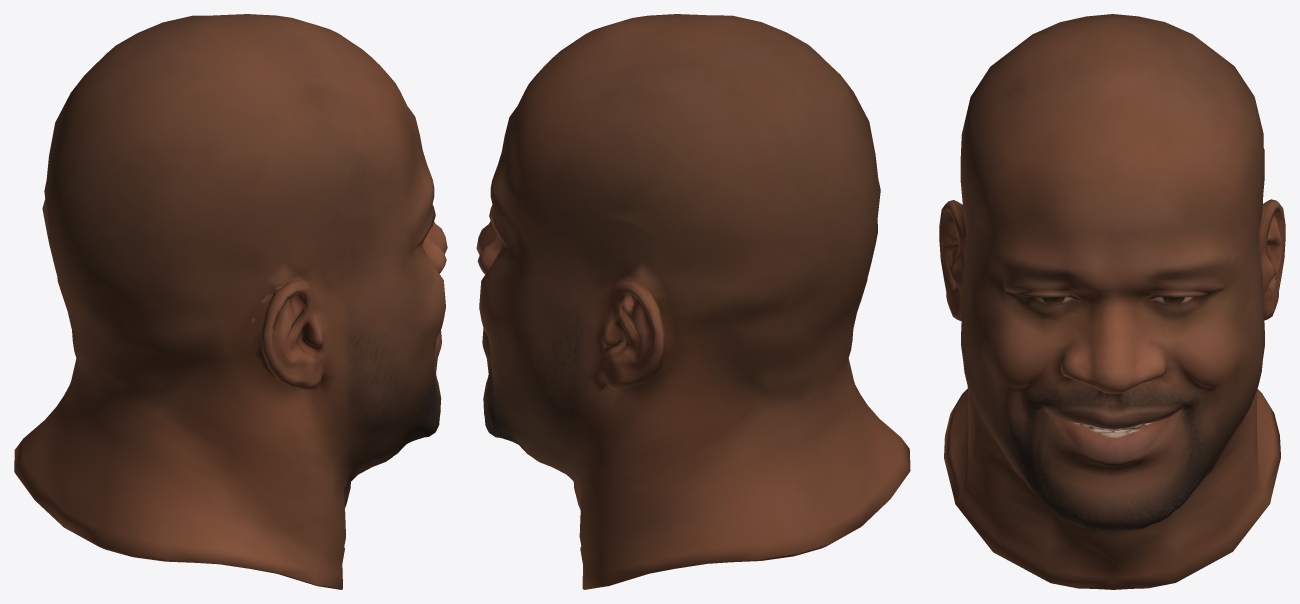
File: shaq_tripo_head.glb
The picture shows the model from 3 angles, left to right: view 1: azimuth 30°, elevation 25°; view 2: azimuth 150°, elevation 25°; view 3: azimuth 270°, elevation 25°; orthographic projection. The views are drawn at different scales.
Parts seen in each view (by area): view 1: tripo_node_257f4a93-e102-4435-bab2-5d5a455b6364; view 2: tripo_node_257f4a93-e102-4435-bab2-5d5a455b6364; view 3: tripo_node_257f4a93-e102-4435-bab2-5d5a455b6364.
Boxes of the visible parts, x1,y1,x2,y2 form: tripo_node_257f4a93-e102-4435-bab2-5d5a455b6364: (14, 14, 447, 589); tripo_node_257f4a93-e102-4435-bab2-5d5a455b6364: (476, 14, 910, 589); tripo_node_257f4a93-e102-4435-bab2-5d5a455b6364: (939, 14, 1285, 589).
Bounding box in the file's own units: 0.7133 × 0.9798 × 0.6002.
Materials: 1 (1 with a texture image).
